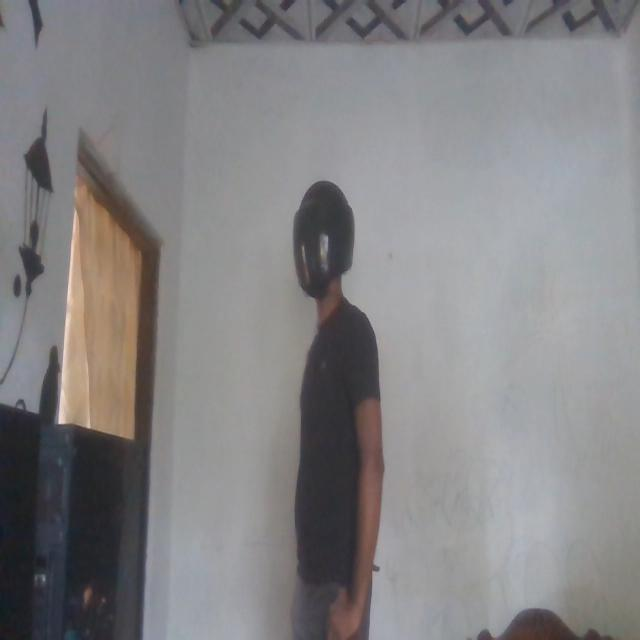Helmet_Wearer: (290, 174, 357, 306)
Person: (282, 179, 395, 640)
